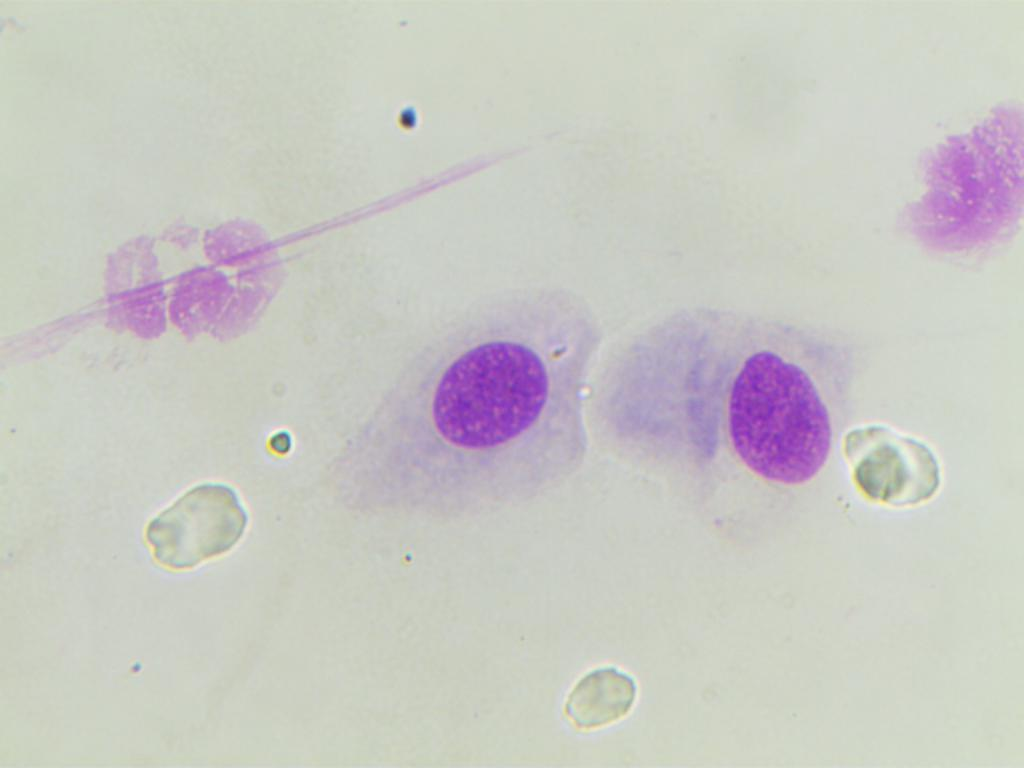artifact: (80, 193, 297, 343), (900, 87, 1024, 263), (137, 468, 268, 580), (834, 427, 953, 509), (553, 658, 648, 732), (267, 429, 299, 457), (389, 109, 423, 133)
epithelial: (690, 326, 841, 488), (424, 327, 563, 465)
